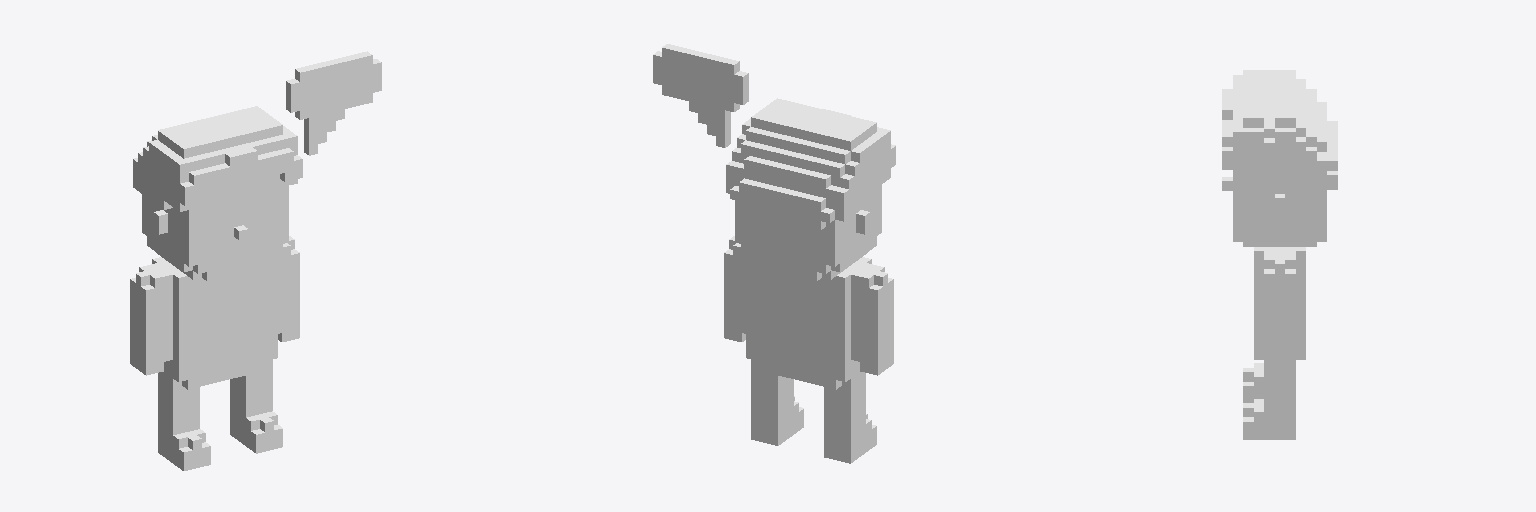
File: yoabout.obj
The picture shows the model from 3 angles: view 1: azimuth 30°, elevation 25°; view 2: azimuth 150°, elevation 25°; view 3: azimuth 270°, elevation 25°; orthographic projection.
Parts seen in each view (by area): view 1: object 1; view 2: object 1; view 3: object 1.
Boxes of the visible parts, x1=… form: object 1: x1=130, y1=51, x2=381, y2=470; object 1: x1=653, y1=44, x2=895, y2=463; object 1: x1=1222, y1=70, x2=1337, y2=439.
Size of the model in its own units: 2.6 by 3.8 by 1.1.